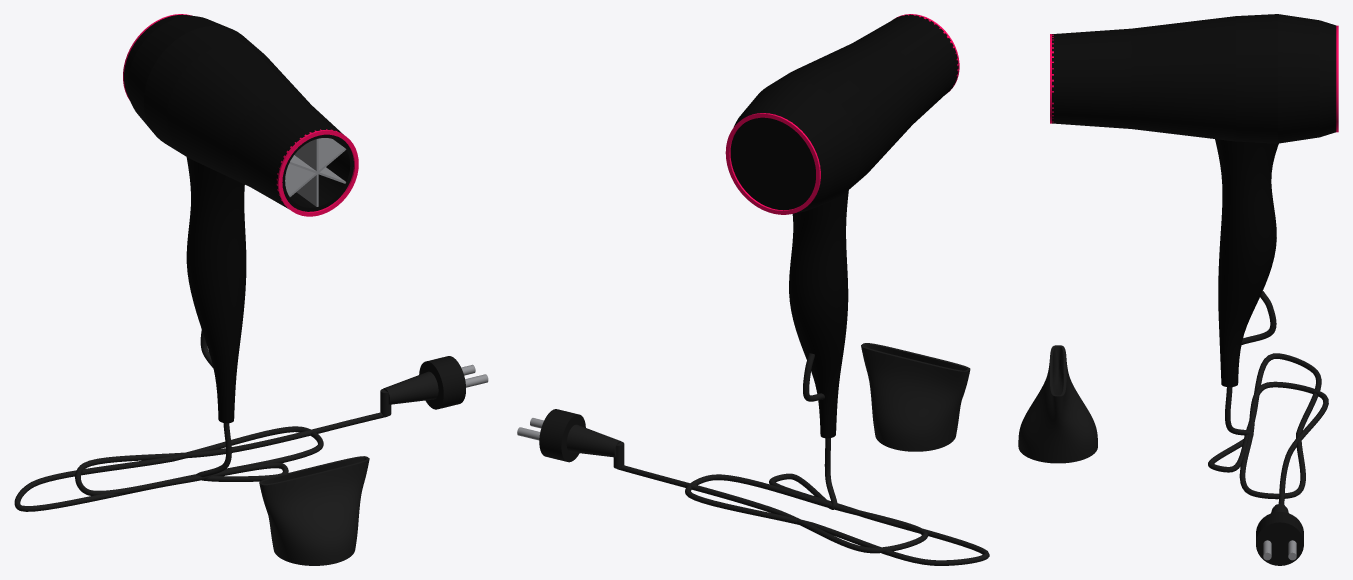
Rendered from hairdryer__8a2ffb84162a.glb.
3 views of the same model, side by side, from view 1: azimuth 30°, elevation 25°; view 2: azimuth 150°, elevation 25°; view 3: azimuth 270°, elevation 25° (orthographic). The views are drawn at different scales.
Visible parts, largest first — view 1: barrel, grip, nozzle, cord_tail, cord_lead, plug_body, outlet_rim, strain_relief, outlet_support.003, outlet_support.006; view 2: barrel, grip, nozzle, cord_tail, cord_lead, plug_body, back_rim, strain_relief; view 3: barrel, grip, nozzle, cord_tail, cord_lead, plug_body, hanging_loop.
Part boxes in pixels (x1,y1,x2,y2): barrel: (124,14,353,211); grip: (186,157,246,423); nozzle: (259,456,369,565); cord_tail: (75,412,387,495); cord_lead: (14,423,288,511); plug_body: (419,356,465,409); outlet_rim: (276,129,358,216); strain_relief: (383,371,438,404); outlet_support.003: (285,164,317,196); outlet_support.006: (318,138,346,173); barrel: (730,14,958,212); grip: (789,190,848,438); nozzle: (861,343,970,451); cord_tail: (617,465,928,553); cord_lead: (769,438,989,565); plug_body: (539,409,585,462); back_rim: (725,113,820,214); strain_relief: (566,424,621,457); barrel: (1052,14,1336,143); grip: (1215,139,1278,387); nozzle: (1018,345,1097,463); cord_tail: (1239,381,1328,504); cord_lead: (1208,353,1321,472); plug_body: (1256,511,1303,565); hanging_loop: (1241,291,1276,345).
Bounding box in the file's own units: 0.2496 × 0.2255 × 0.153.
